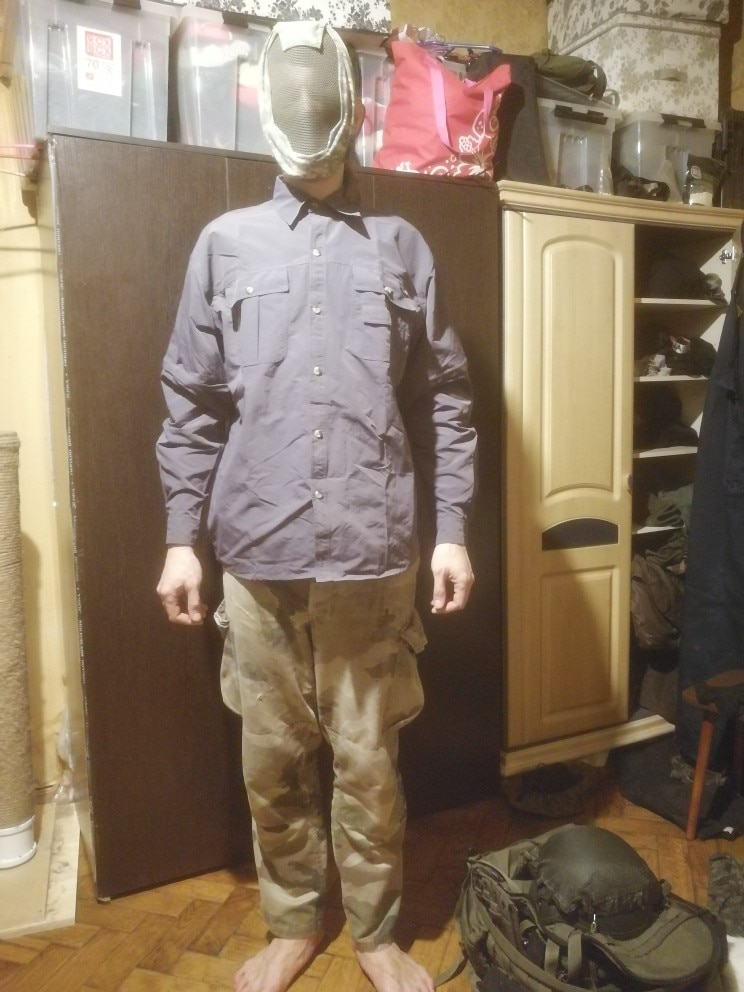shirts: (158, 194, 473, 577)
